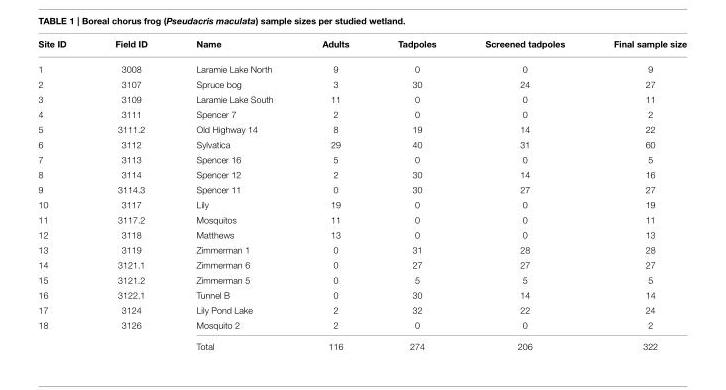table: (37, 37, 686, 350)
table column: (460, 37, 588, 350), (171, 37, 297, 350), (588, 37, 686, 350), (372, 37, 460, 350), (90, 37, 171, 350), (297, 37, 372, 350), (37, 37, 90, 350)
table row: (37, 55, 686, 76), (37, 37, 686, 55), (37, 316, 686, 334), (37, 334, 686, 350), (37, 76, 686, 91), (37, 91, 686, 106), (37, 106, 686, 121), (37, 121, 686, 136), (37, 136, 686, 151), (37, 151, 686, 166), (37, 166, 686, 181), (37, 181, 686, 196), (37, 196, 686, 211), (37, 211, 686, 226), (37, 226, 686, 241), (37, 241, 686, 256), (37, 256, 686, 271), (37, 271, 686, 286), (37, 286, 686, 301), (37, 301, 686, 316)
table spanning cell: (37, 316, 90, 350)
